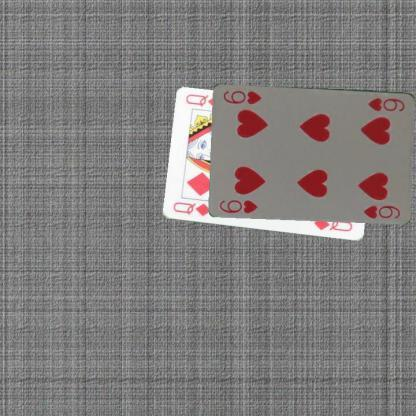6h: (216, 197, 260, 214), (366, 94, 406, 112)
Qd: (170, 200, 212, 218)
